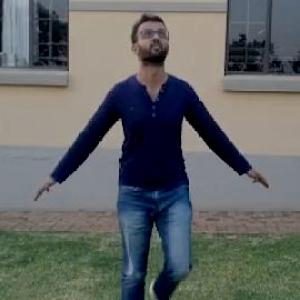land: (3, 1, 274, 299)
